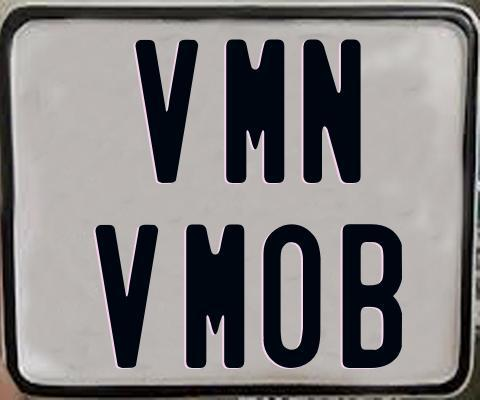0: (262, 223, 326, 372)
B: (342, 224, 402, 370)
M: (186, 224, 246, 373), (226, 39, 285, 187)
N: (300, 38, 358, 187)
V: (95, 224, 161, 373), (132, 40, 199, 186)
